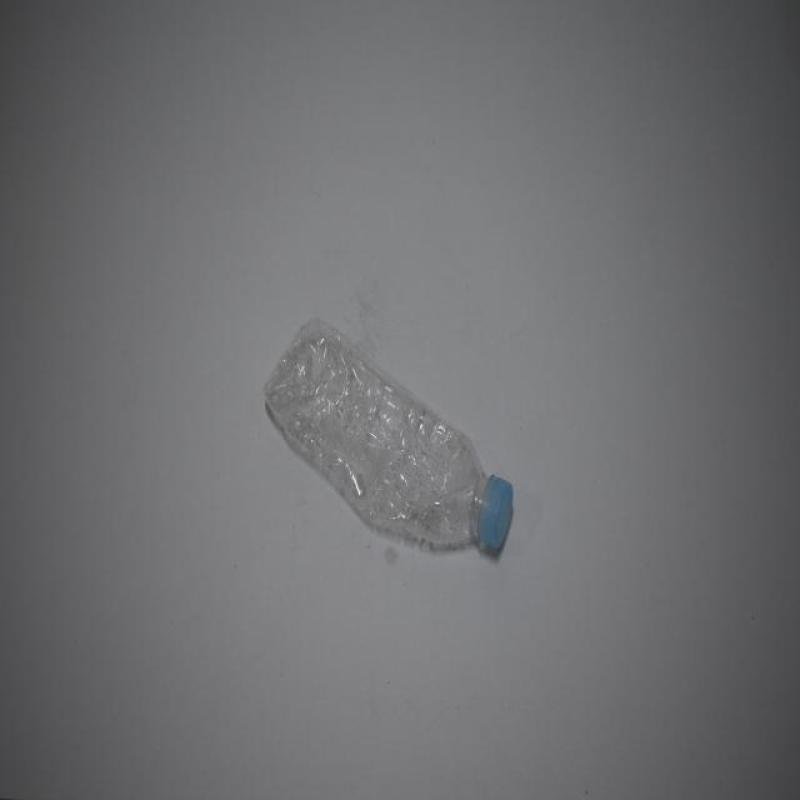botella: (266, 321, 515, 557)
